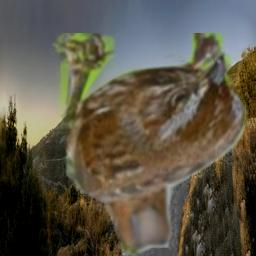Sparrow: (50, 33, 249, 256)
